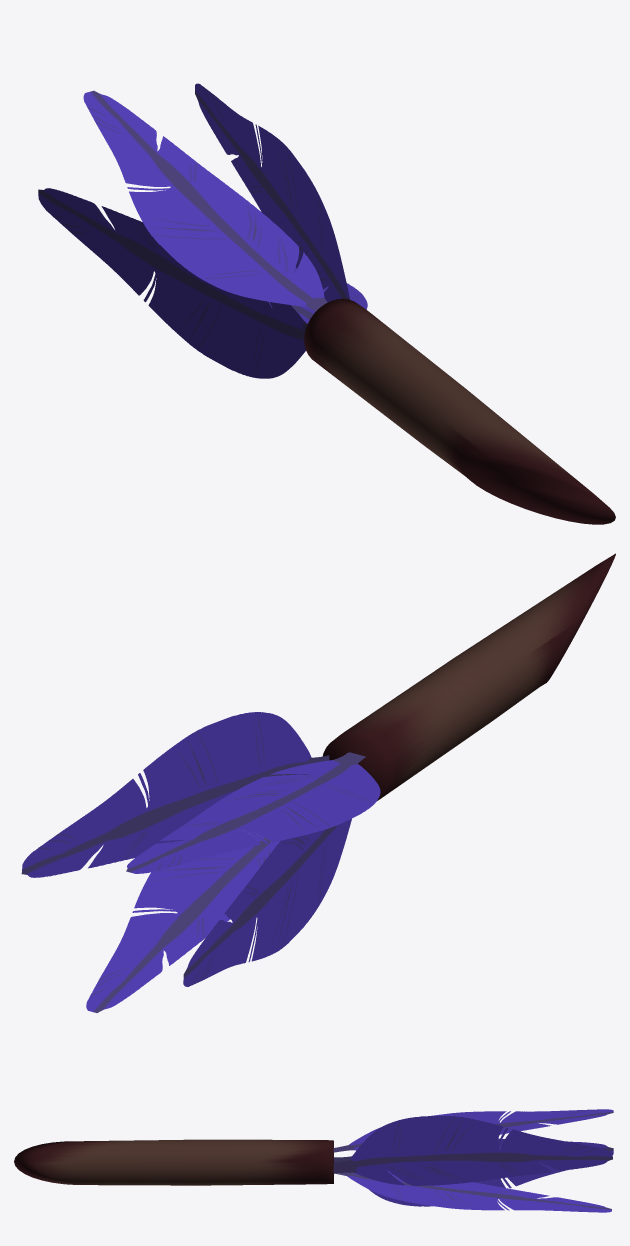
Rendered from DartOrigin.fbx.
3 renders of one model, top to bottom at view 1: azimuth 30°, elevation 25°; view 2: azimuth 150°, elevation 25°; view 3: azimuth 270°, elevation 25°, orthographic. The views are drawn at different scales.
Parts seen in each view (by area): view 1: Dart; view 2: Dart; view 3: Dart.
Part boxes in pixels (<box>): Dart: <box>38,83,615,524</box>; Dart: <box>21,553,615,1012</box>; Dart: <box>14,1109,613,1212</box>.
Bounding box in the file's own units: 1467 × 1679 × 6653.
